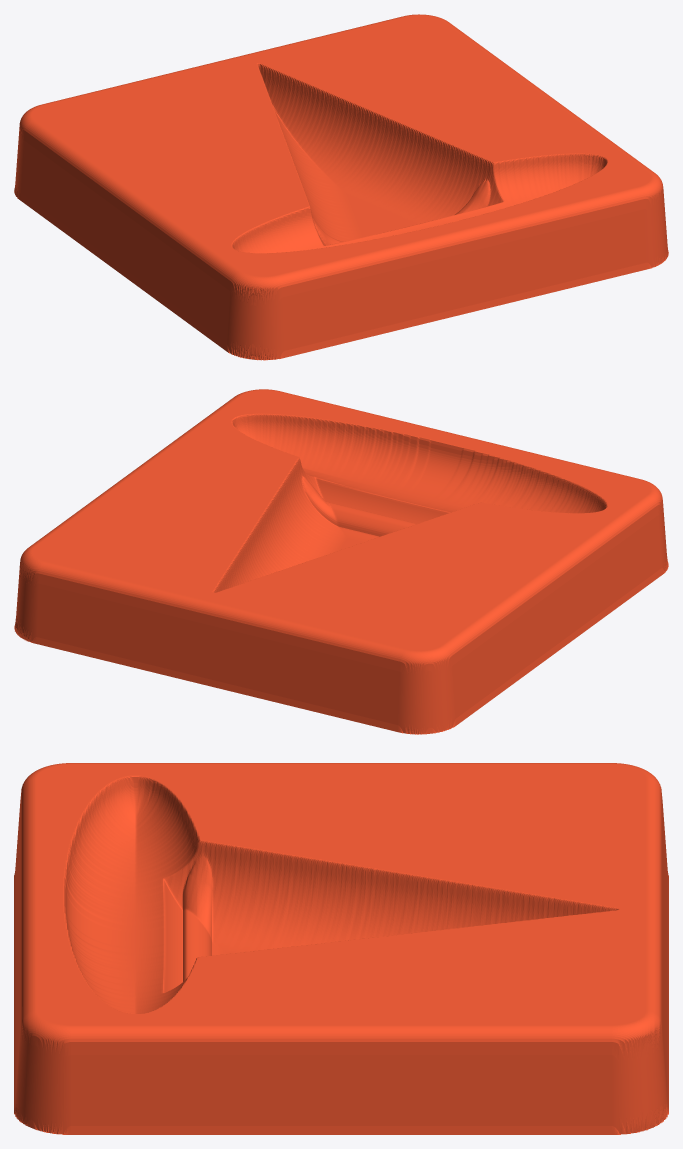
The model's file is mold.glb.
3 views of the same model, one above another, from view 1: azimuth 30°, elevation 25°; view 2: azimuth 150°, elevation 25°; view 3: azimuth 270°, elevation 25° (orthographic). The views are drawn at different scales.
Visible parts, largest first — view 1: geometry_0; view 2: geometry_0; view 3: geometry_0.
Part boxes in pixels (x1,y1,x2,y2): geometry_0: (14, 14, 668, 360); geometry_0: (14, 389, 668, 734); geometry_0: (14, 763, 668, 1134).
Size of the model in its own units: 0.105 by 0.0175 by 0.1038.
